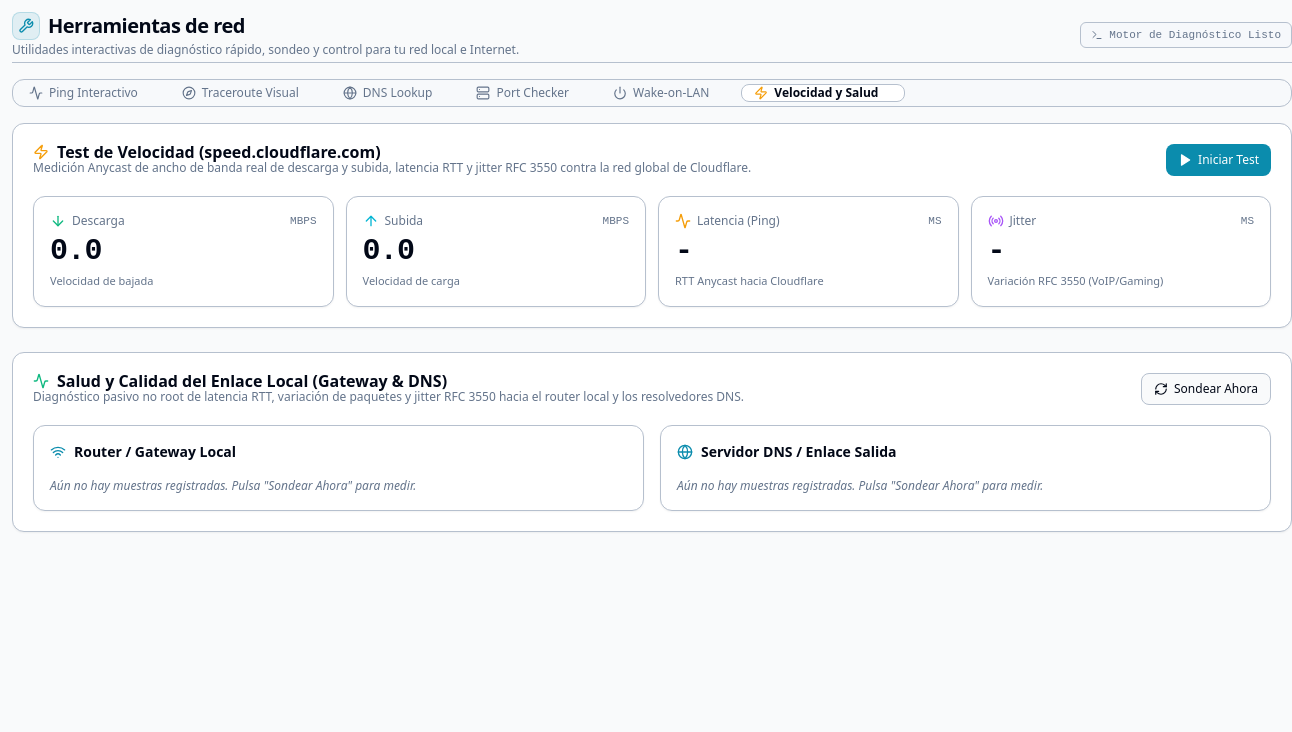
Test: Tools Screen - Speed & Network Health (Fase 9) › permite sondear salud bajo demanda con 'Sondear Ahora'
Click the button "Sondear Ahora": (1206, 388) [1141,372,1271,404]
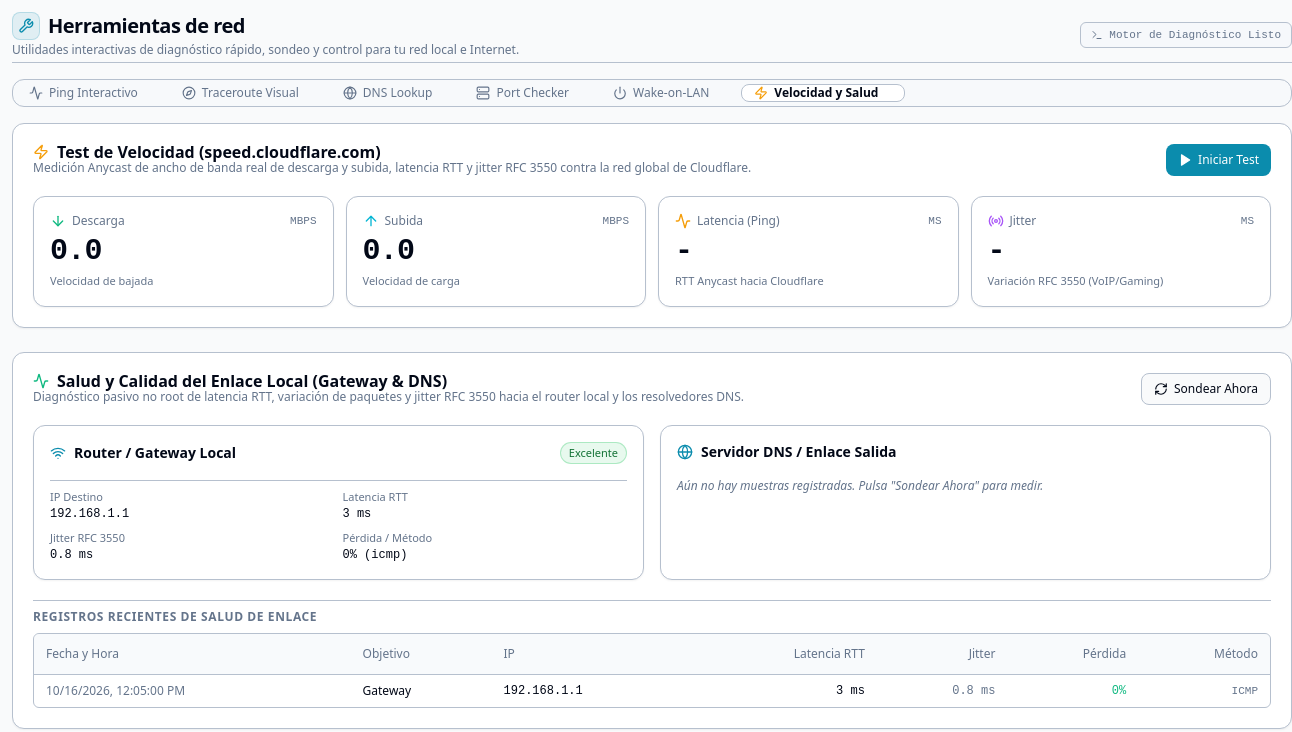
Expected: the text "192.168.1.1" below "IP Destino" is shown, [50,507,129,521]
